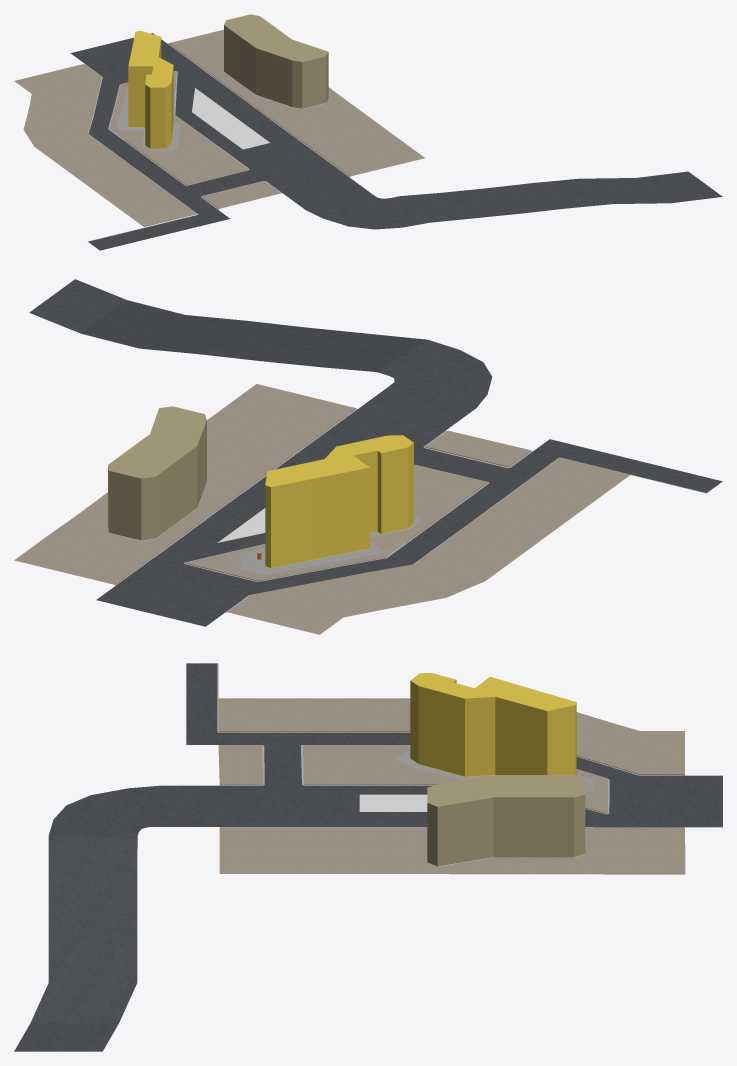
File: F_city.fbx
3 renders of one model, top to bottom at view 1: azimuth 30°, elevation 25°; view 2: azimuth 150°, elevation 25°; view 3: azimuth 270°, elevation 25°, orthographic. The views are drawn at different scales.
Visible parts, largest first — view 1: Plane, b_placeholder_2, b_placeholder_1, Plane.001; view 2: Plane, b_placeholder_1, b_placeholder_2, Plane.001; view 3: Plane, b_placeholder_1, b_placeholder_2, Plane.001.
Part boxes in pixels (x1,y1,x2,y2): Plane: (14,29,722,250); b_placeholder_2: (224,14,328,108); b_placeholder_1: (128,31,173,148); Plane.001: (192,88,269,149); Plane: (14,279,722,634); b_placeholder_1: (265,435,413,567); b_placeholder_2: (108,406,206,540); Plane.001: (217,508,265,542); Plane: (14,663,722,1051); b_placeholder_1: (410,673,576,776); b_placeholder_2: (427,775,585,866); Plane.001: (359,794,427,811).
Size of the model in its own units: 24533 by 3960 by 21188.
